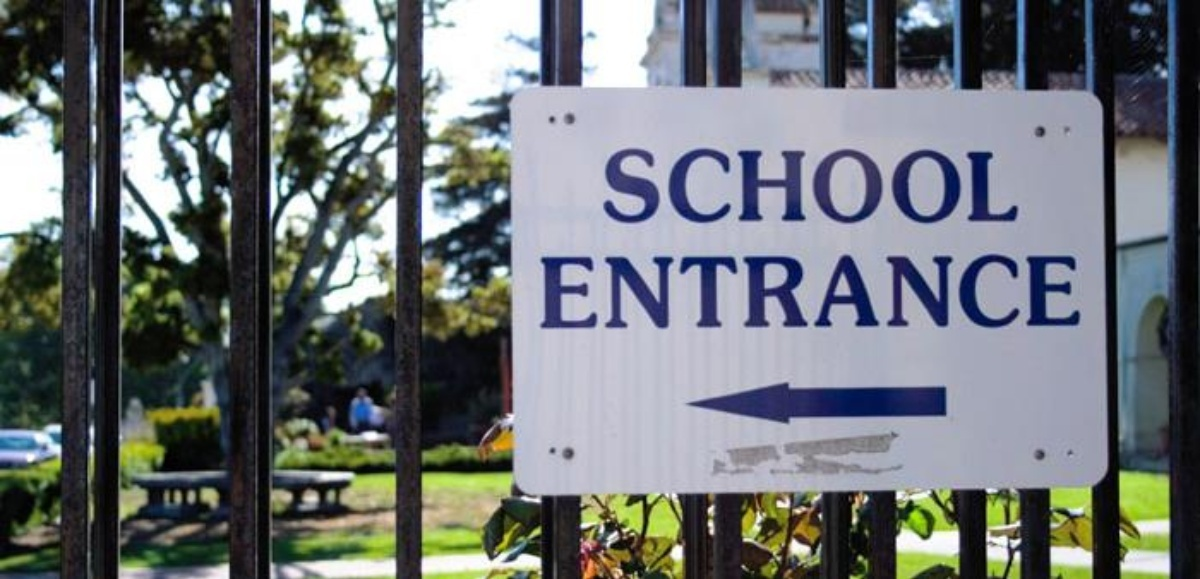text: (609, 144, 624, 225), (625, 144, 640, 225), (641, 144, 656, 225), (657, 144, 672, 225), (673, 144, 688, 225), (689, 144, 704, 225), (705, 144, 720, 225), (721, 144, 736, 225), (737, 144, 752, 225), (753, 144, 768, 225), (769, 144, 784, 225), (785, 144, 800, 225), (801, 144, 816, 225), (817, 144, 832, 225), (833, 144, 848, 225), (849, 144, 864, 225), (865, 144, 880, 225), (881, 144, 896, 225), (897, 144, 912, 225), (913, 144, 928, 225), (929, 144, 944, 225), (945, 144, 960, 225), (961, 144, 976, 225), (977, 144, 992, 225), (993, 144, 1008, 225), (545, 251, 560, 329), (561, 251, 576, 329), (577, 251, 592, 329), (593, 251, 608, 329), (609, 251, 624, 329), (625, 251, 640, 329), (641, 251, 656, 329), (657, 251, 672, 329), (673, 251, 688, 329), (689, 251, 704, 329), (705, 251, 720, 329), (721, 251, 736, 329), (737, 251, 752, 329), (753, 251, 768, 329), (769, 251, 784, 329), (785, 251, 800, 329), (801, 251, 816, 329), (817, 251, 832, 329), (833, 251, 848, 329), (849, 251, 864, 329), (865, 251, 880, 329), (881, 251, 896, 329), (897, 251, 912, 329), (913, 251, 928, 329), (929, 251, 944, 329), (945, 251, 960, 329), (961, 251, 976, 329), (977, 251, 992, 329), (993, 251, 1008, 329), (1009, 251, 1024, 329), (1025, 251, 1040, 329), (1041, 251, 1056, 329), (1057, 251, 1072, 329), (1009, 144, 1022, 225), (1073, 251, 1082, 329), (537, 251, 544, 329), (602, 144, 608, 225)
